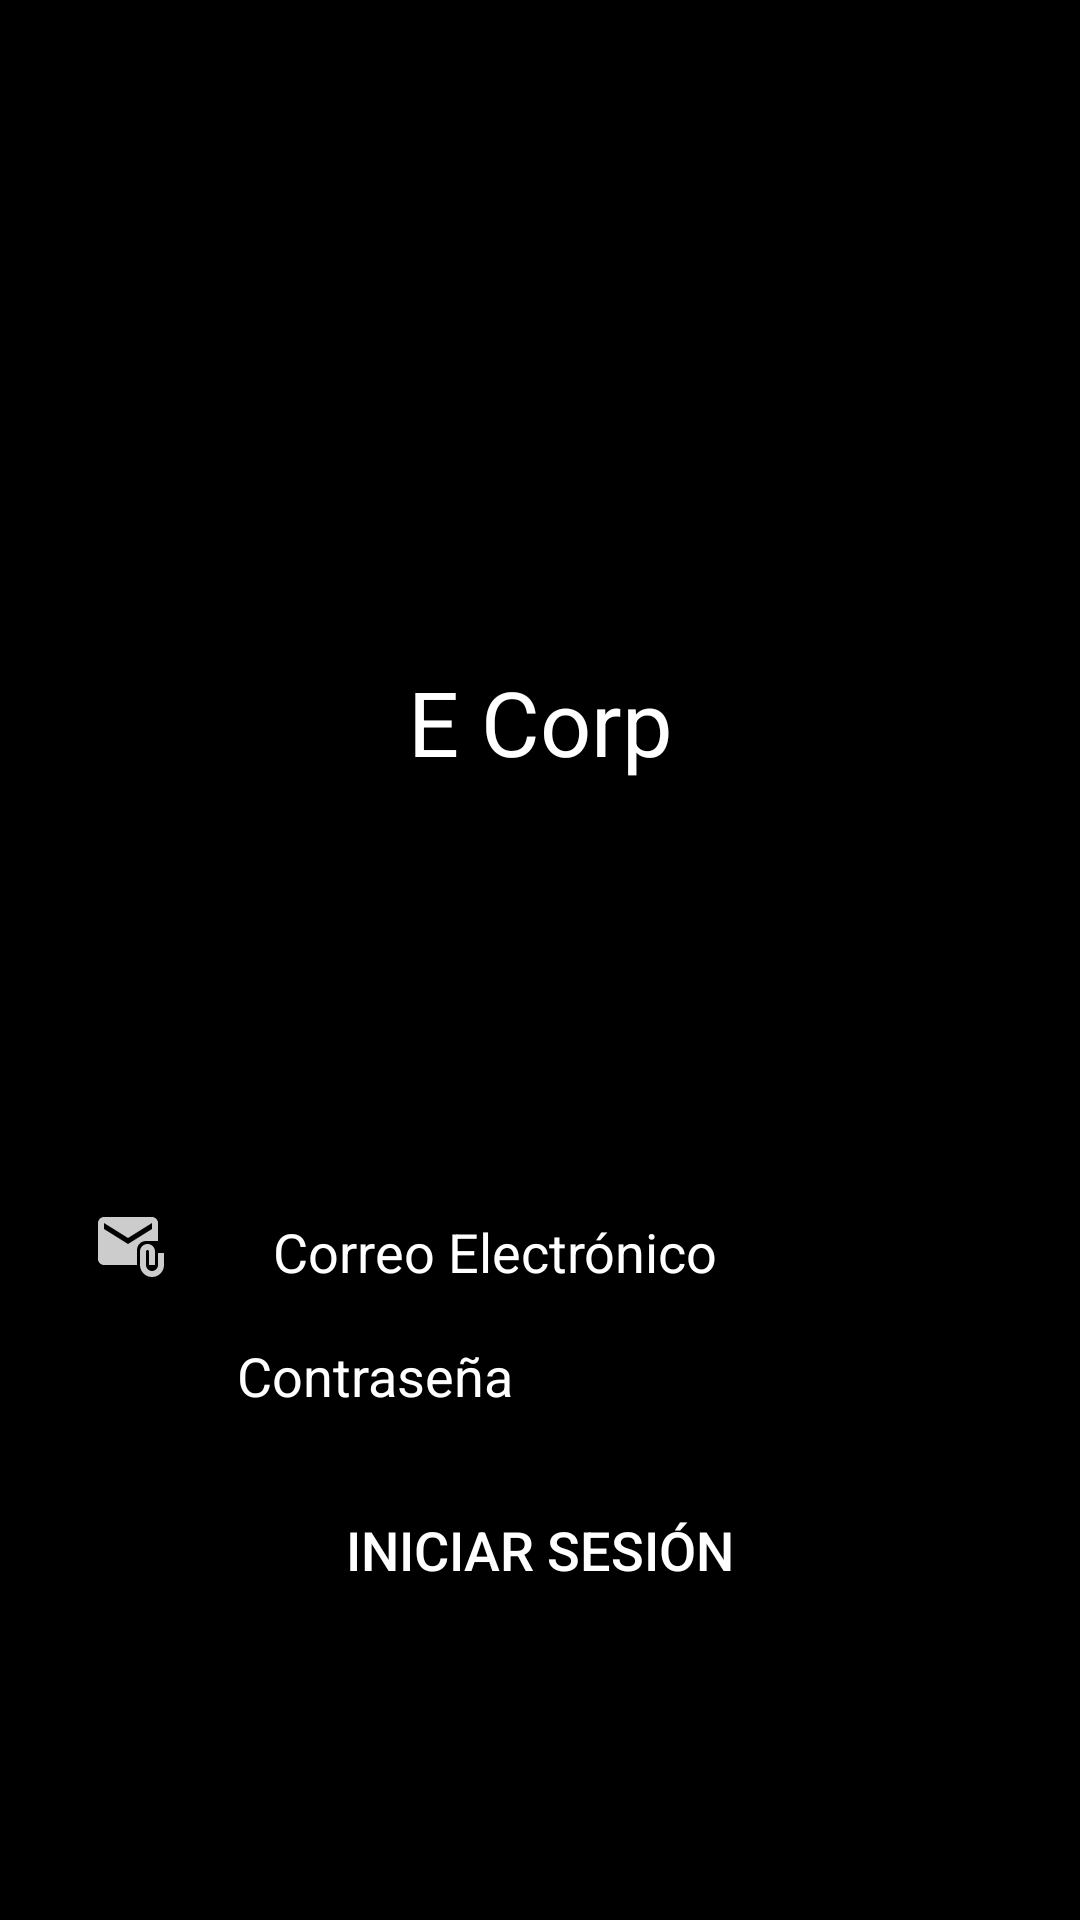

Point at icon controls on the screen. Image size 1080x1920, points as (x,y).
mail: (131,1247)
